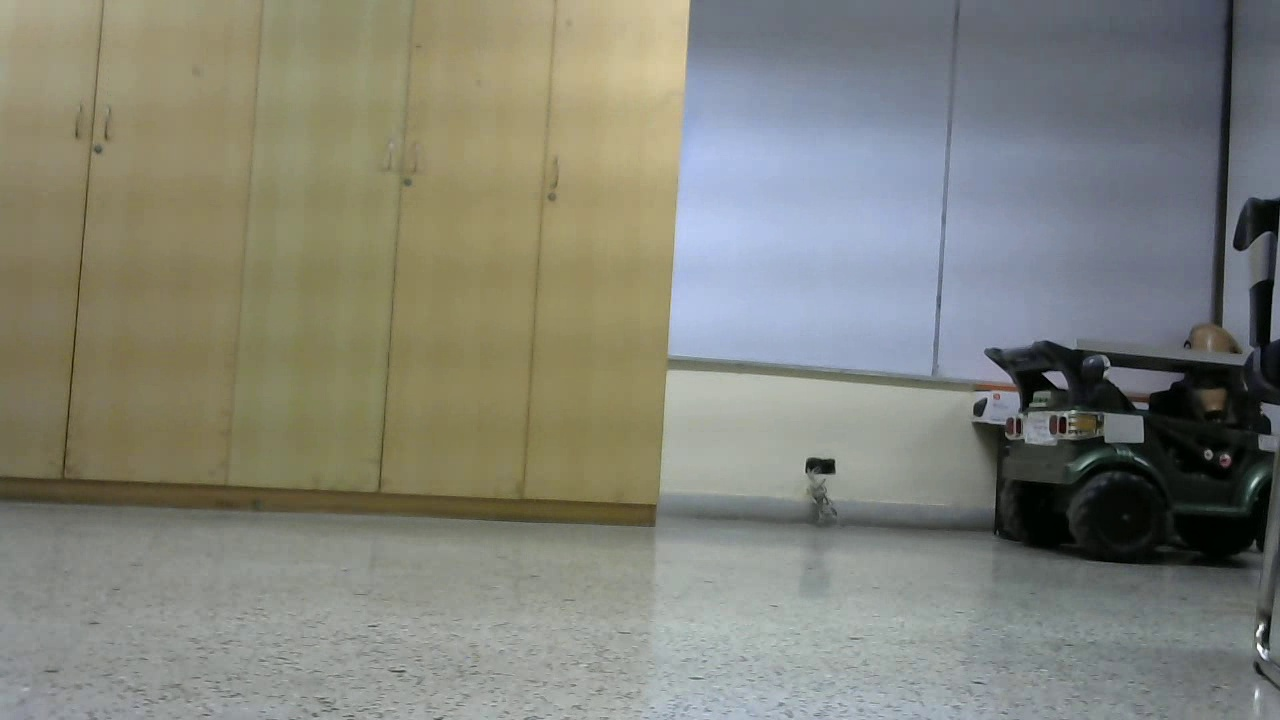chair: (759, 80, 1190, 666), (205, 98, 475, 562)
